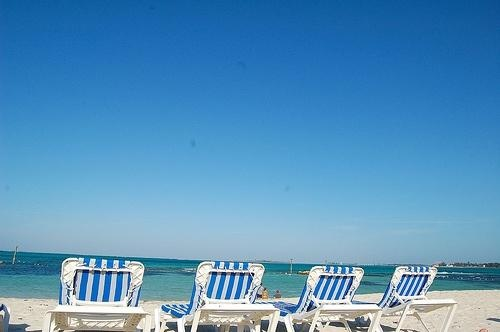chair: (155, 260, 279, 332), (256, 264, 380, 332), (43, 257, 153, 332), (380, 265, 459, 332)
